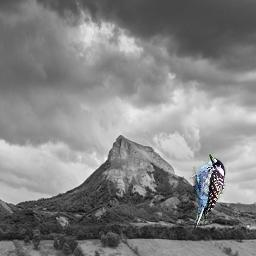Woodpecker: (182, 150, 231, 235)
